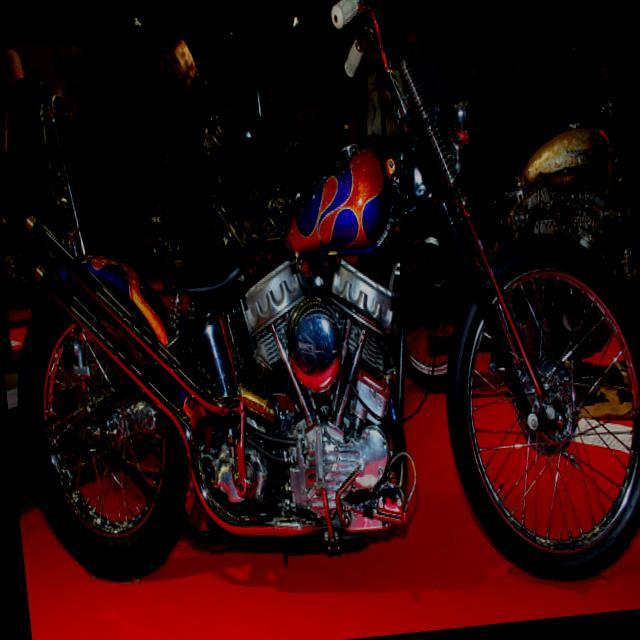Vehicle: (0, 0, 640, 639), (456, 91, 640, 416)
